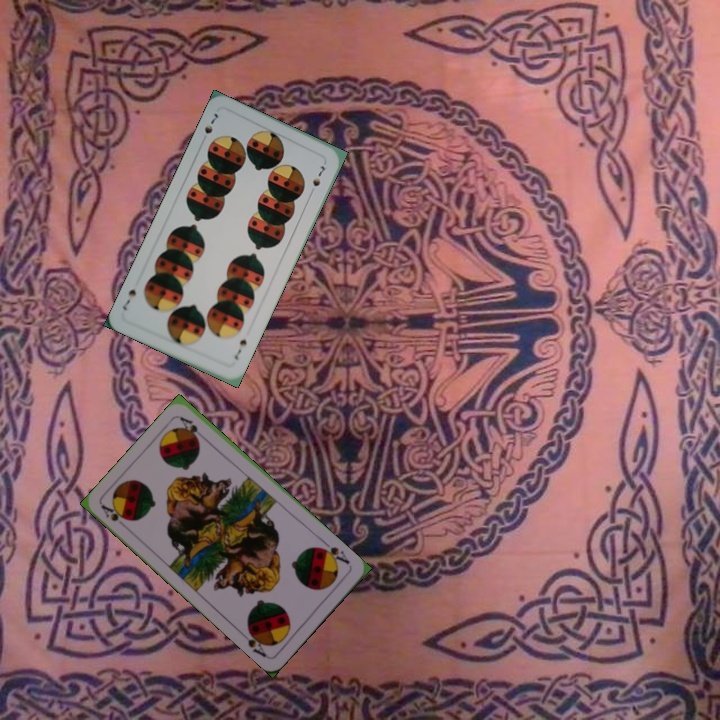S7: (197, 109, 221, 145), (230, 335, 249, 362)
SA: (315, 537, 352, 568), (97, 501, 132, 524)
